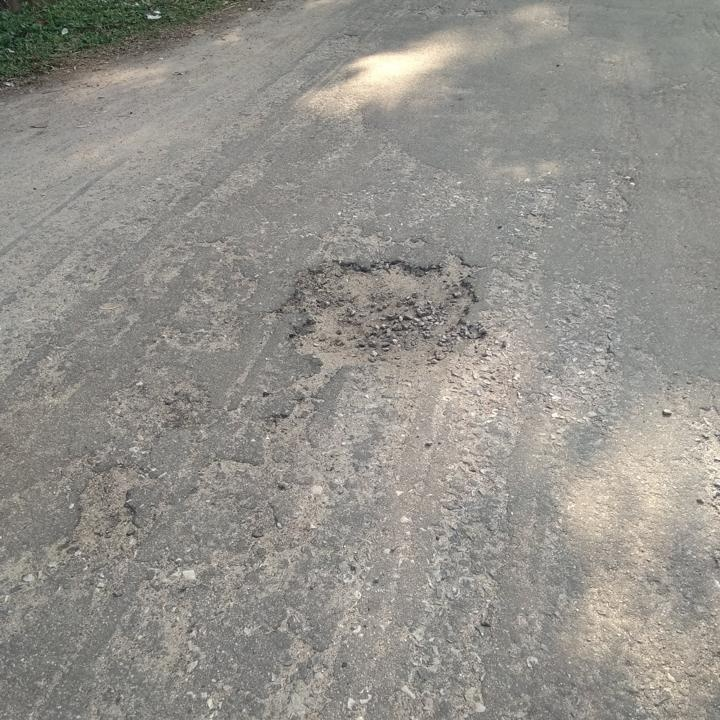pothole: (281, 247, 492, 386), (72, 464, 148, 549)
